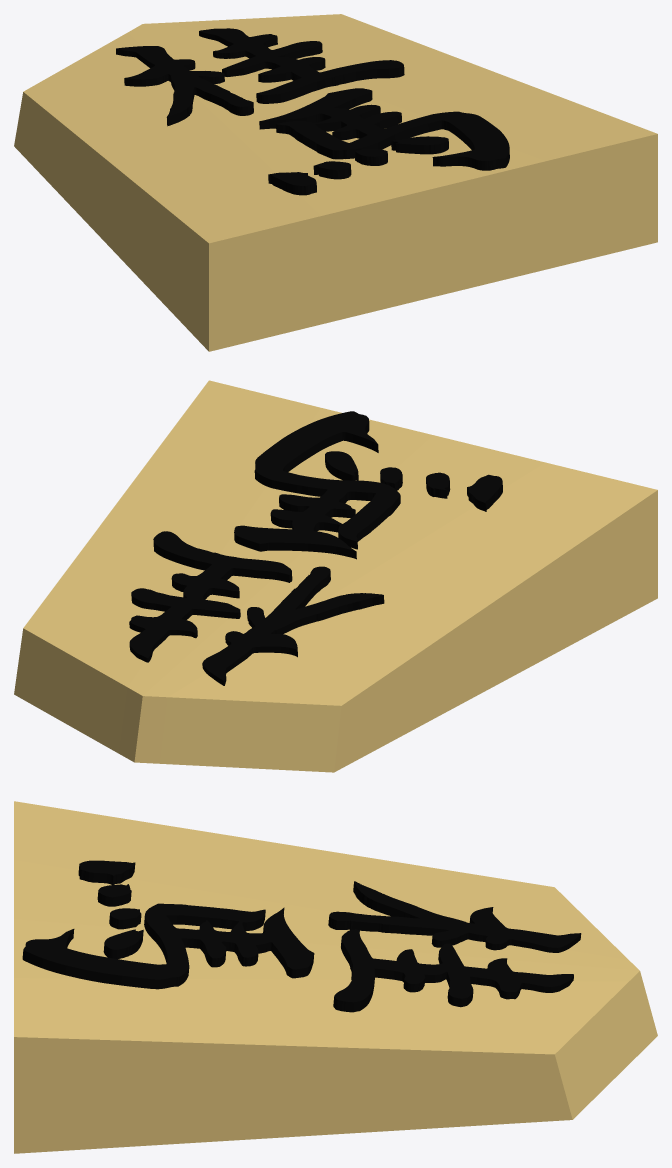
The model's file is Cavalier.fbx.
The picture shows the model from 3 angles, top to bottom: view 1: azimuth 30°, elevation 25°; view 2: azimuth 150°, elevation 25°; view 3: azimuth 270°, elevation 25°; orthographic projection. The views are drawn at different scales.
Visible parts, largest first — view 1: Cavalier; view 2: Cavalier; view 3: Cavalier.
Part boxes in pixels (x1=…): Cavalier: x1=14, y1=14, x2=657, y2=351; Cavalier: x1=14, y1=380, x2=657, y2=772; Cavalier: x1=14, y1=801, x2=657, y2=1153.
Size of the model in its own units: 63.4 by 15.81 by 73.15.
